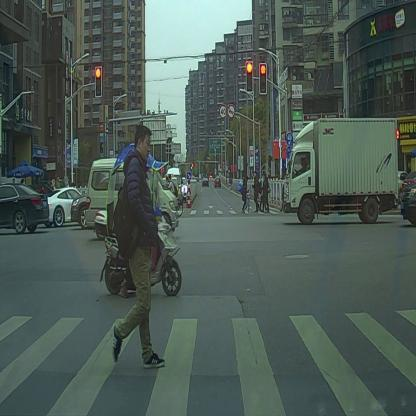Red Light: (245, 58, 253, 91), (94, 65, 102, 98)
